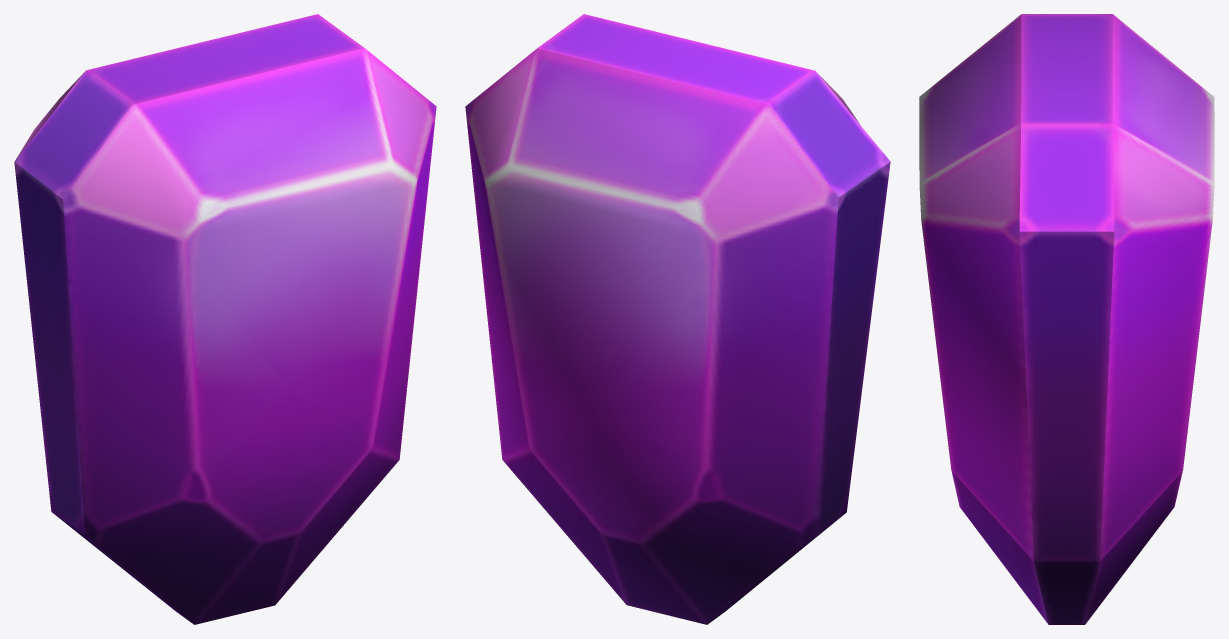
Rendered from Item_Gem.fbx.
3 views of the same model, side by side, from view 1: azimuth 30°, elevation 25°; view 2: azimuth 150°, elevation 25°; view 3: azimuth 270°, elevation 25° (orthographic). The views are drawn at different scales.
Parts seen in each view (by area): view 1: Item_Gem_0_mesh; view 2: Item_Gem_0_mesh; view 3: Item_Gem_0_mesh.
Boxes of the visible parts, <box> form: Item_Gem_0_mesh: <box>14,14,436,624</box>; Item_Gem_0_mesh: <box>465,14,890,624</box>; Item_Gem_0_mesh: <box>919,14,1214,624</box>.
Size of the model in its own units: 47.42 by 66.3 by 33.08.
